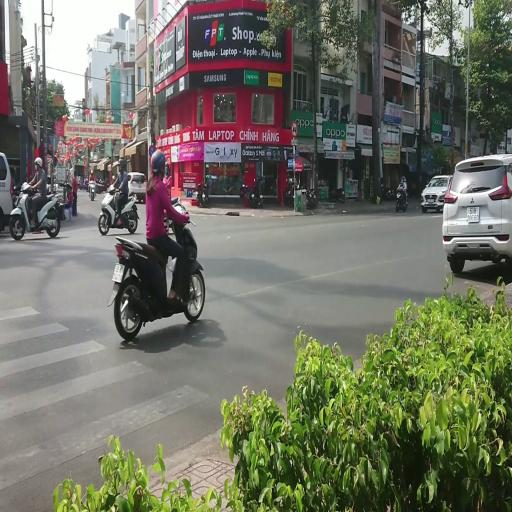bikes: (107, 198, 205, 341), (9, 181, 61, 240), (98, 184, 139, 235), (162, 197, 189, 234), (284, 178, 315, 208), (240, 177, 264, 208), (55, 181, 72, 221), (284, 177, 299, 205), (395, 185, 408, 212), (195, 182, 208, 207), (330, 187, 345, 202), (306, 187, 316, 208), (96, 177, 109, 193), (88, 180, 96, 201), (77, 178, 83, 190), (83, 177, 88, 191)
helmet: (150, 150, 166, 174), (20, 182, 30, 192), (34, 157, 43, 167), (164, 162, 170, 176), (118, 158, 124, 171), (107, 184, 115, 193), (149, 145, 155, 156), (66, 184, 72, 191), (401, 176, 406, 182), (112, 175, 116, 181), (91, 170, 93, 175)
